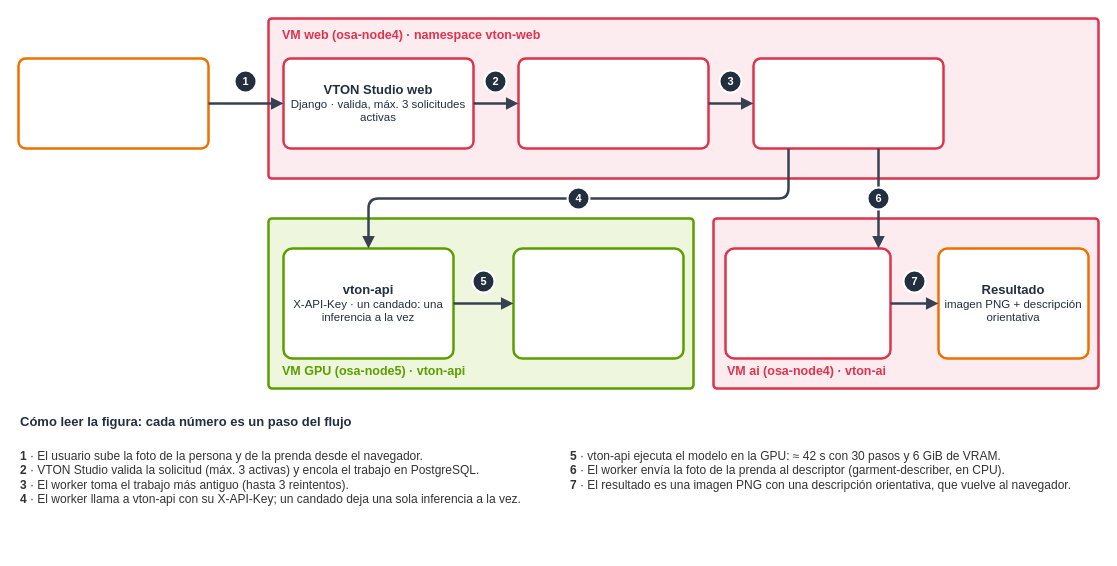
This 1117x566 diagram has some shape labels left out. The box of each missing label's shape, as (x1, y1, x2, y2) in pixels:
garment-describer ClusterIP 8080 · CPU garment_image → JSON: (724, 247, 891, 359)
GPU RTX 3060 ≈ 42 s con 30 pasos 6 GiB de VRAM: (512, 247, 684, 359)
Navegador sube la foto de la persona y de la prenda: (17, 57, 209, 149)
PostgreSQL 16 cola de trabajos: (517, 57, 709, 149)
Worker toma el trabajo más antiguo; 3 reintentos: (752, 57, 944, 149)
